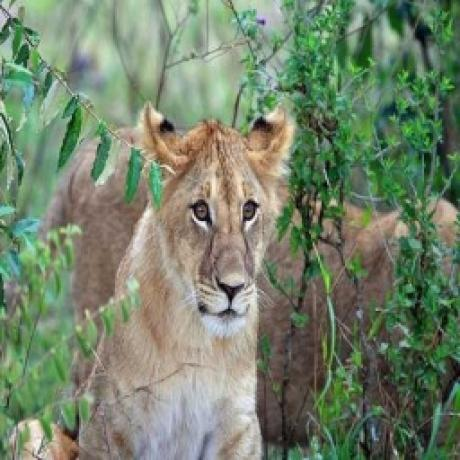Lion: (74, 100, 298, 460)
